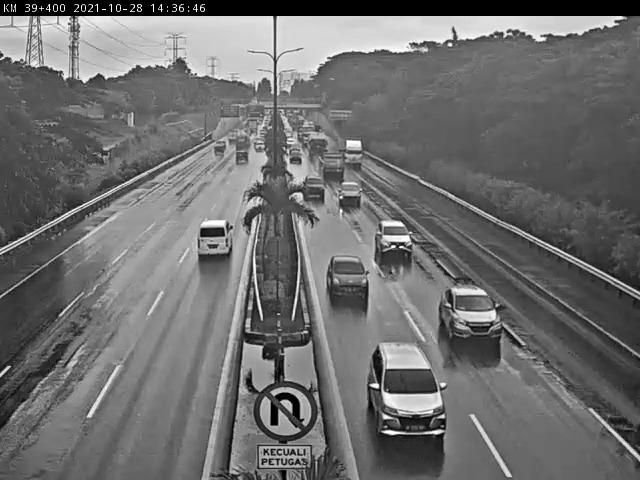big truck: (343, 142, 357, 166)
car: (574, 334, 640, 401), (379, 362, 429, 425), (193, 216, 232, 270), (446, 288, 497, 329), (323, 252, 366, 289), (373, 213, 413, 244), (338, 174, 361, 198), (301, 172, 322, 190), (229, 157, 245, 172), (214, 145, 224, 158)
